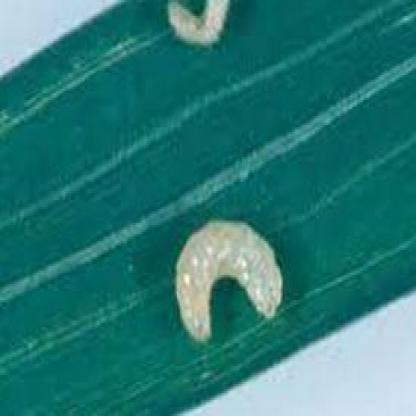whorl-maggot: (168, 206, 298, 340), (160, 0, 233, 55)
